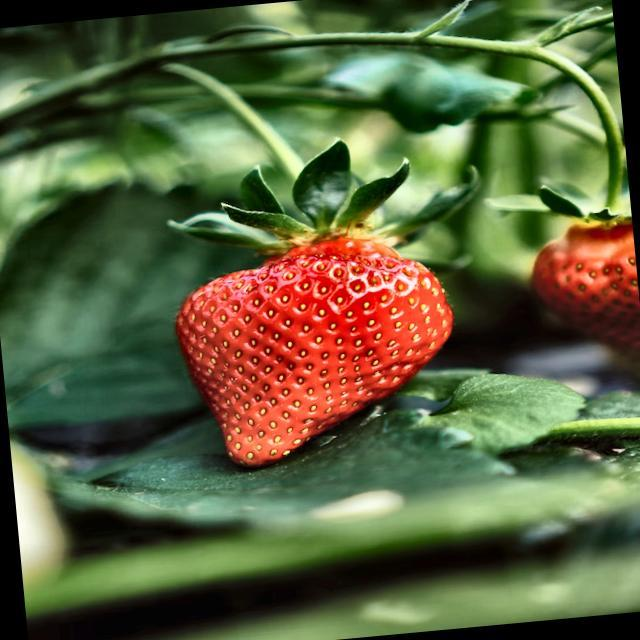strawberry: (176, 236, 452, 466), (532, 224, 640, 349)
